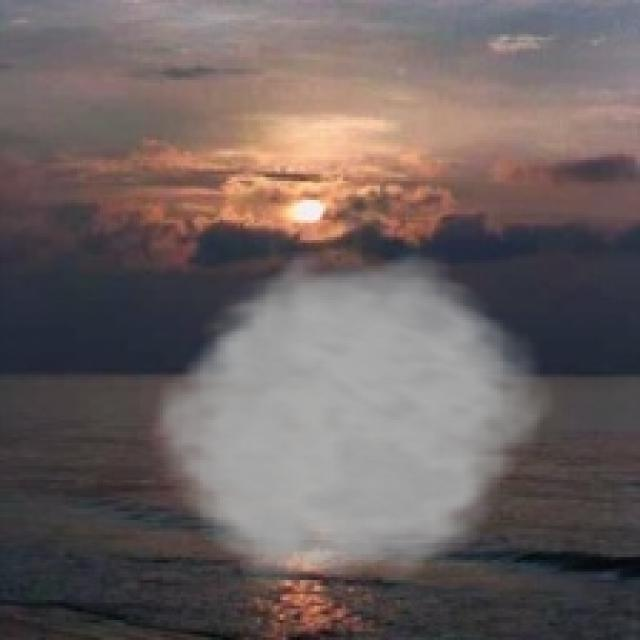smoke: (140, 252, 563, 597)
